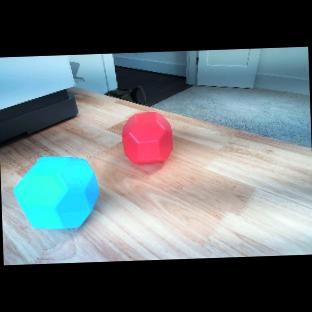V5_BLUE: (12, 155, 102, 232)
V5_RED: (121, 111, 172, 167)
